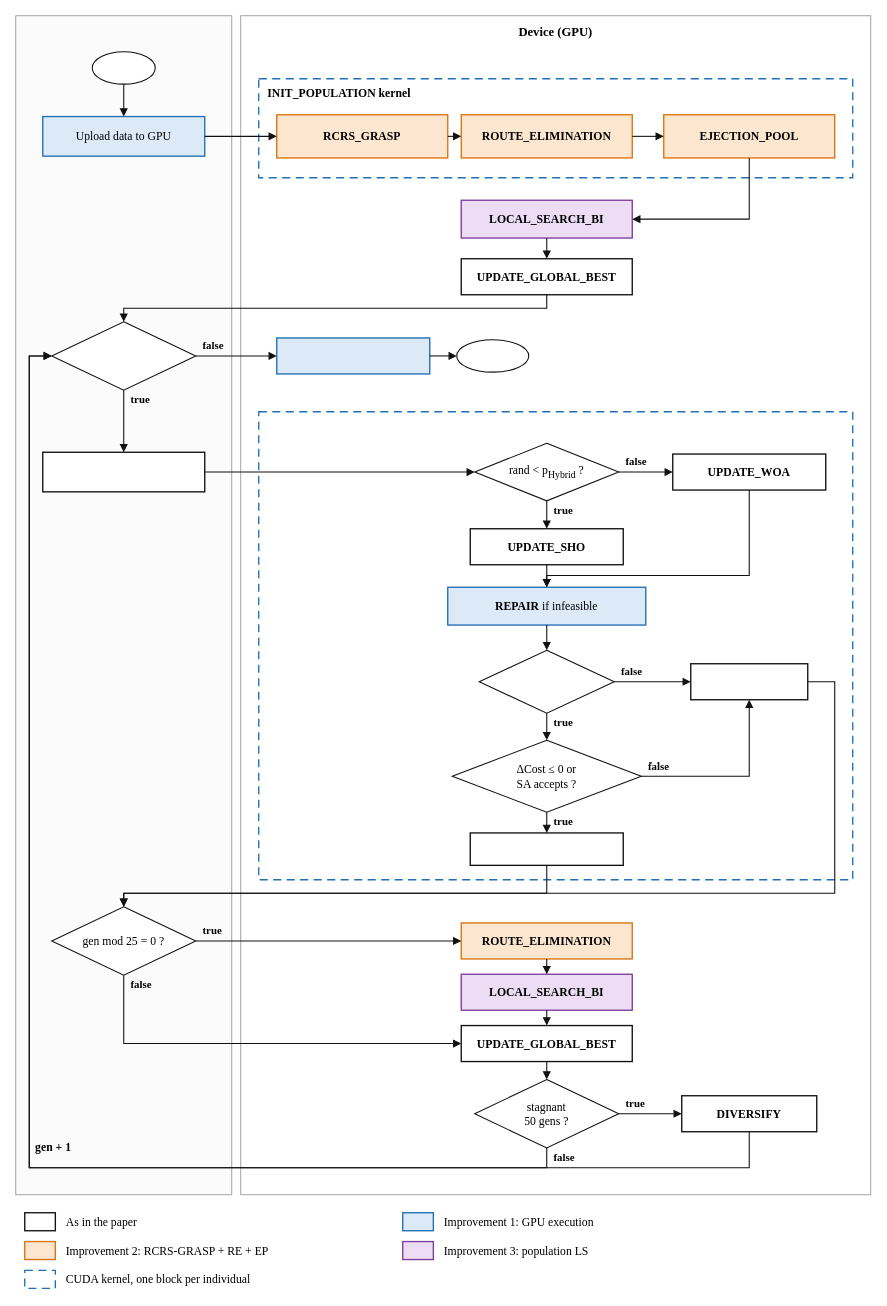
The diagram is 887 pixels wide and 1306 high, and some of its shapes have lost their labels. Each missing label, with the box of its shape:
Copy gbest to host: (276, 337, 430, 374)
End: (456, 339, 529, 372)
gen < iterMax ?: (51, 321, 196, 390)
Host (CPU): (15, 15, 232, 1195)
keep p: (690, 663, 808, 700)
newP feasible ?: (478, 649, 614, 713)
p ← newP: (469, 832, 624, 866)
Start: (91, 51, 155, 84)
Update a, p Hybrid: (42, 451, 205, 492)
UPDATE_POPULATION kernel: (258, 411, 853, 880)
